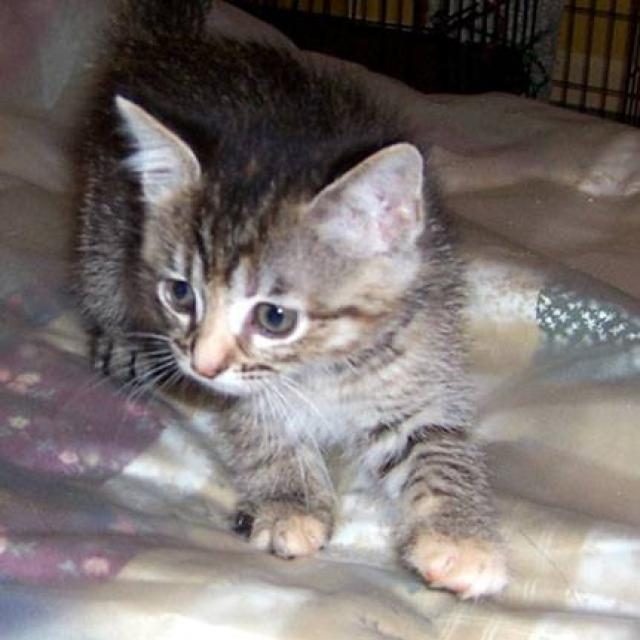cat: (65, 0, 514, 602)
